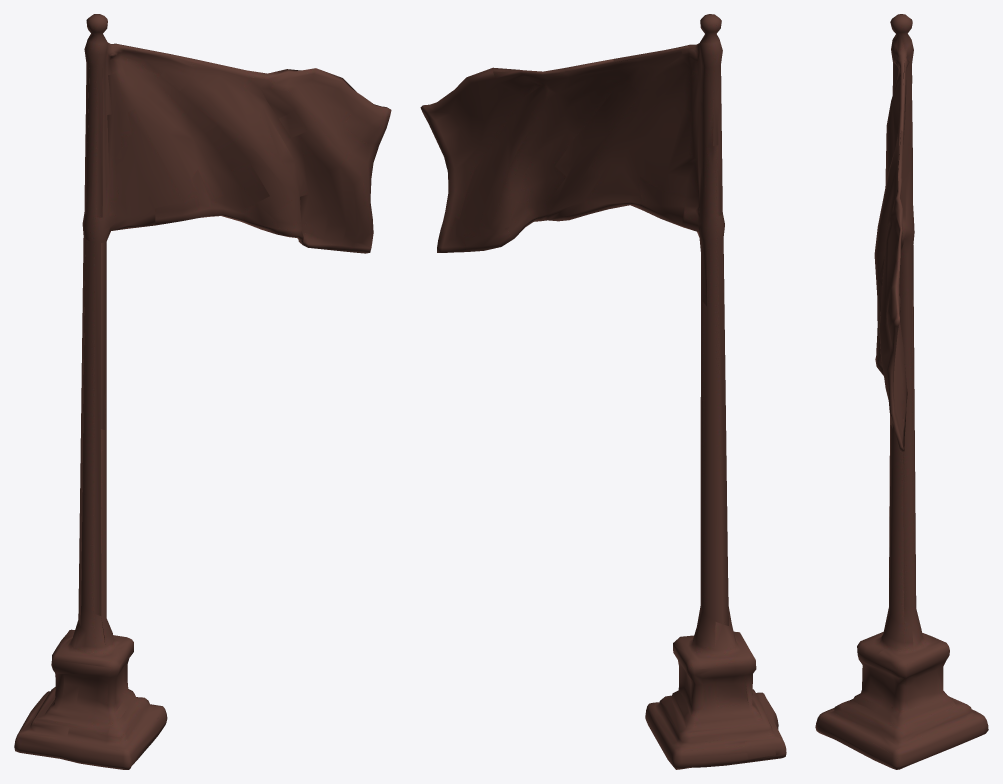
The model's file is bandera_chilena.glb.
3 views of the same model, side by side, from view 1: azimuth 30°, elevation 25°; view 2: azimuth 150°, elevation 25°; view 3: azimuth 270°, elevation 25° (orthographic).
Parts seen in each view (by area): view 1: bandera_chilena; view 2: bandera_chilena; view 3: bandera_chilena.
Boxes of the visible parts, <box> form: bandera_chilena: <box>14,14,391,769</box>; bandera_chilena: <box>420,14,786,769</box>; bandera_chilena: <box>815,14,988,769</box>.
Size of the model in its own units: 1.34 by 2.5 by 0.5428.
1 material, 1 textured.
